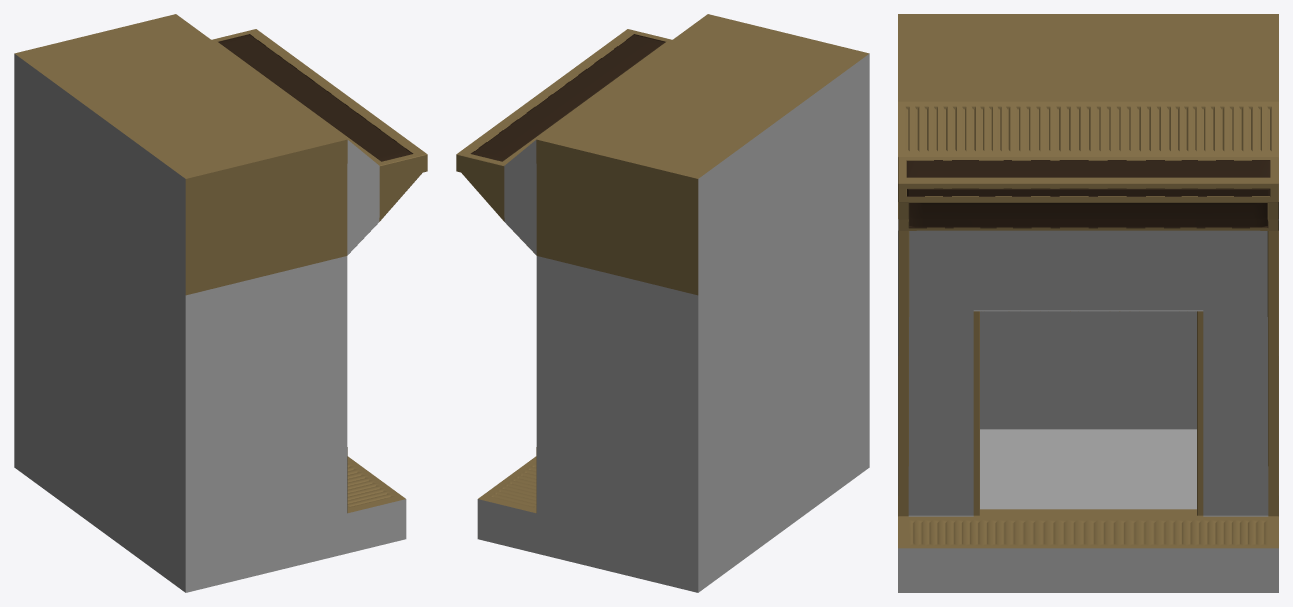
Rendered from misk_firePlace_hi.fbx.
3 views of the same model, side by side, from view 1: azimuth 30°, elevation 25°; view 2: azimuth 150°, elevation 25°; view 3: azimuth 270°, elevation 25° (orthographic). The views are drawn at different scales.
Parts seen in each view (by area): view 1: hearth_mesh; view 2: hearth_mesh; view 3: hearth_mesh.
Boxes of the visible parts, x1,y1,x2,y2 form: hearth_mesh: (14,14,427,592); hearth_mesh: (456,14,869,592); hearth_mesh: (898,14,1278,592).
Bounding box in the file's own units: 1.58 × 2.58 × 1.94.
